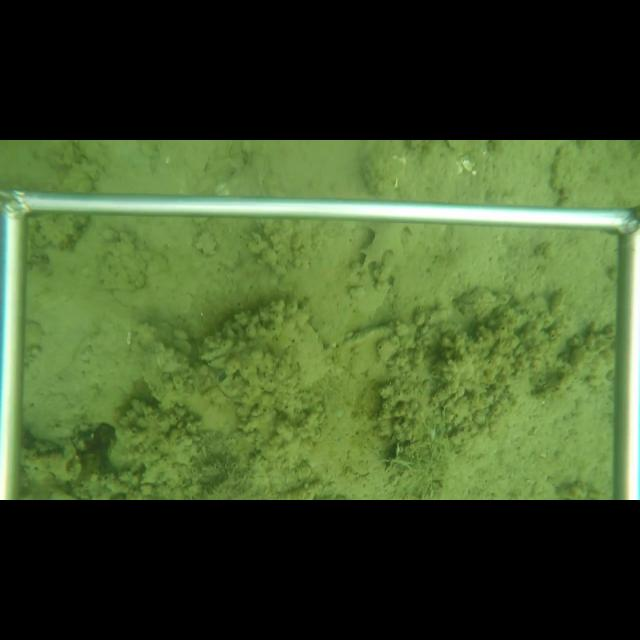Oyster-Closed: (200, 307, 330, 388), (357, 142, 409, 199), (342, 324, 396, 377)
